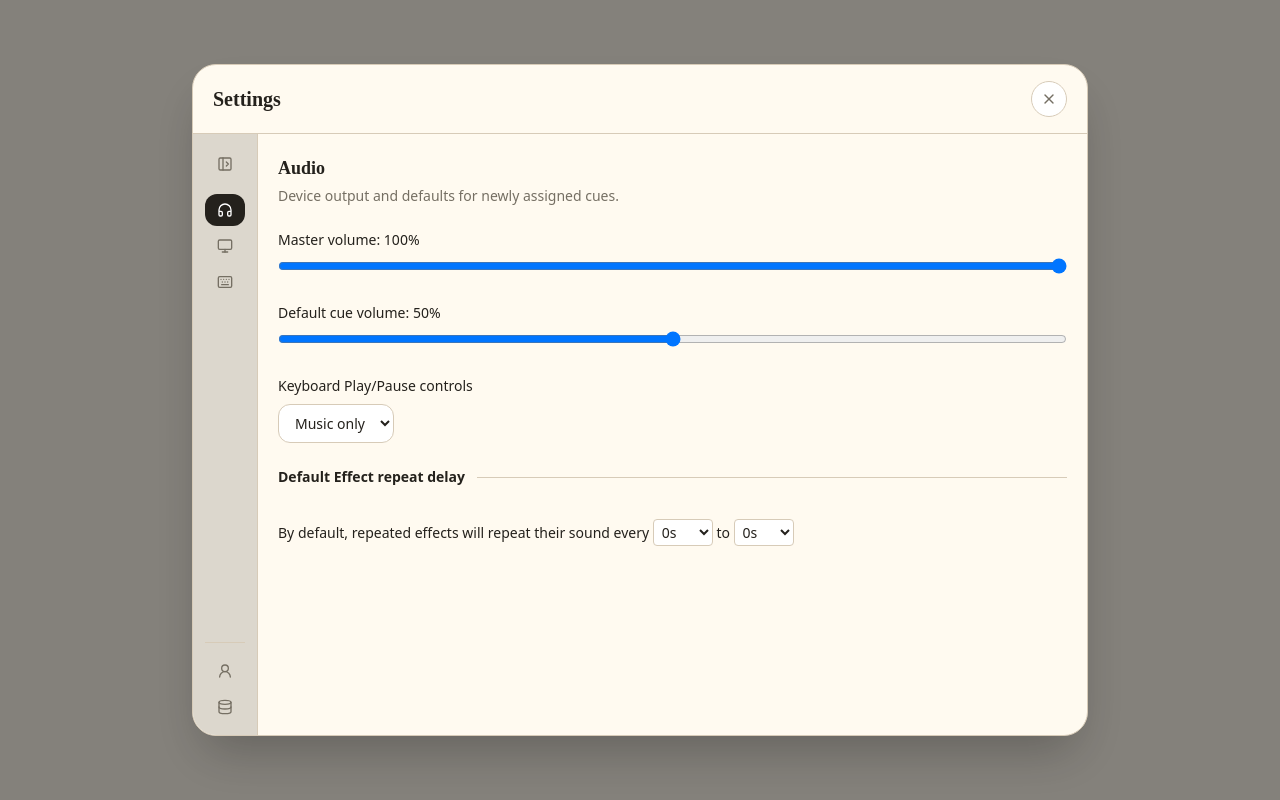
SettingsModal local reset › expands compact navigation for selection and collapses after selecting
Click the button named "Expand settings navigation". click: click(225, 164)
box: [205,146,245,182]
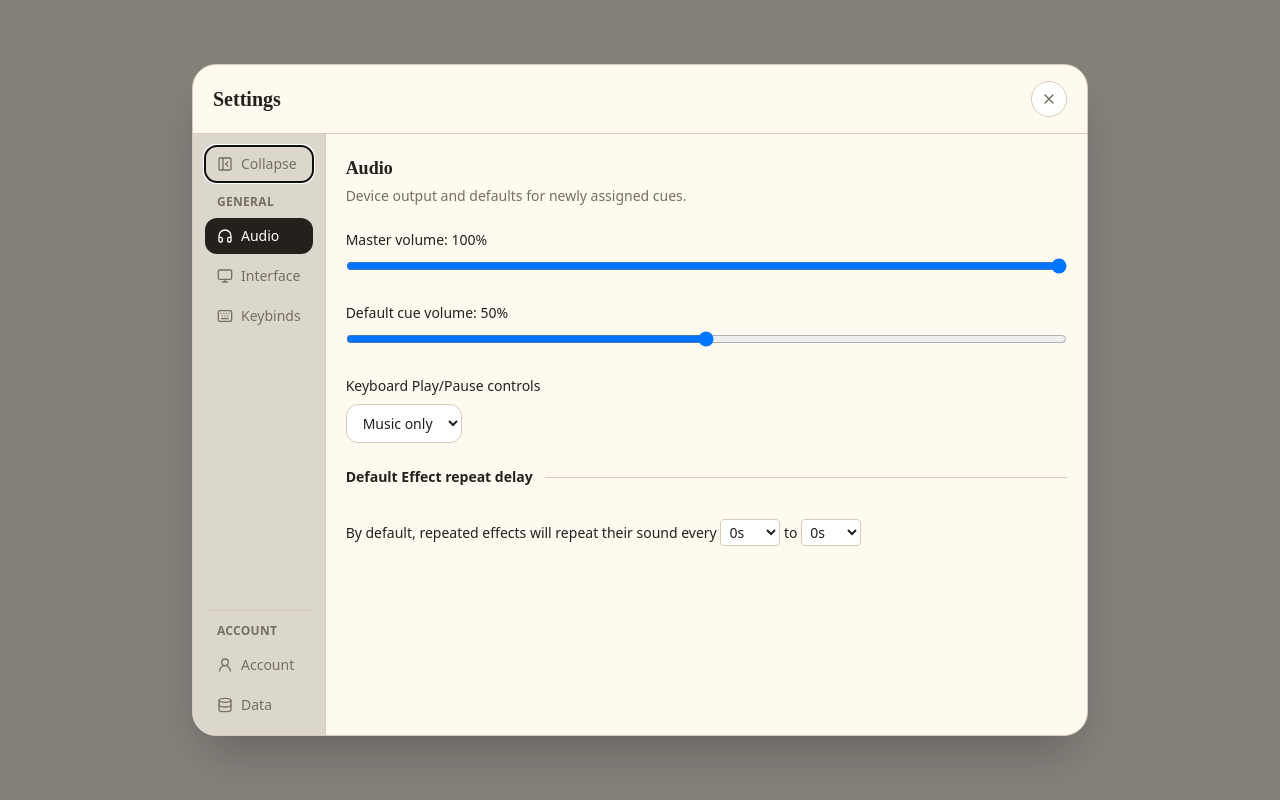
Result: the button with aria-label "Collapse settings navigation" is expanded at [205,146,313,182]
Click the tab "Interface". click: click(259, 276)
box: [205,258,313,294]
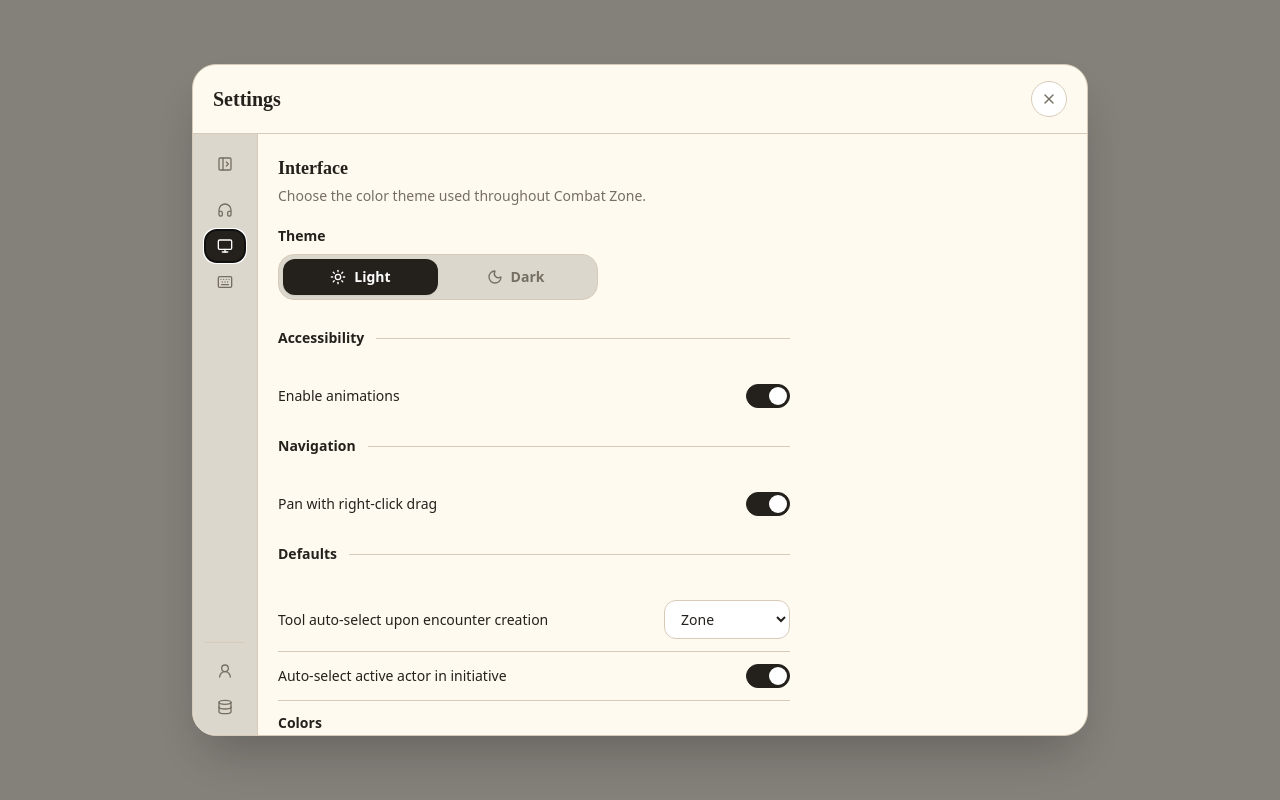
Result: the heading "Interface" is shown at [278,158,348,178]
Result: the button named "Expand settings navigation" is collapsed at [205,146,245,182]
